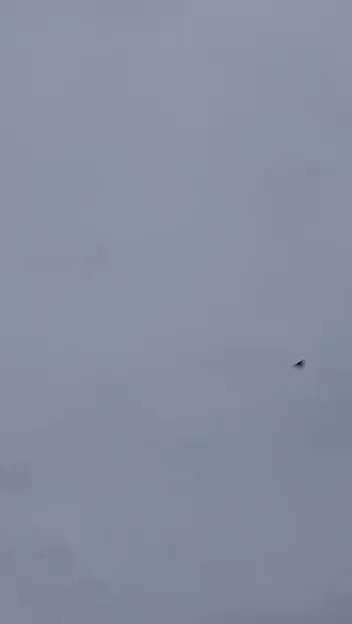shahed: (292, 357, 305, 368)
